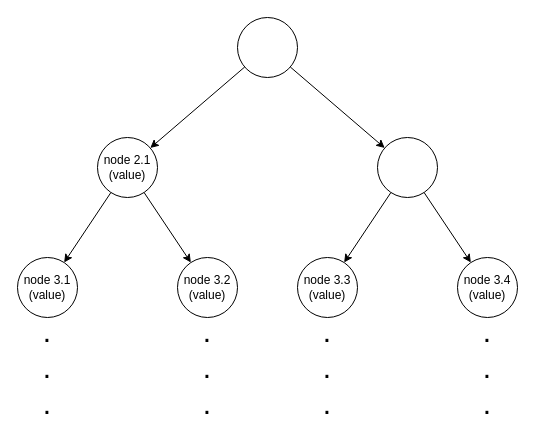
Image size: 535x439. Some labels were removed from this diagram. The shapes that lost their labels are listed below. From the top down, each one's box as (x1, y1, x2, y2) in pixels, then its label:
(236, 16, 298, 78): node 1.1 (value)
(376, 136, 438, 198): node 2.2 (value)
